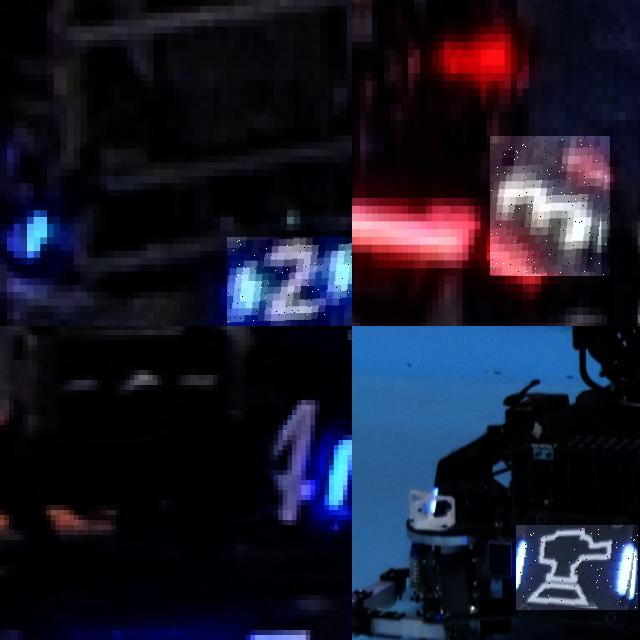B2: (227, 237, 352, 326)
B4: (241, 400, 352, 525), (255, 326, 352, 370)
Bs: (516, 525, 638, 610)
R3: (490, 136, 610, 276)
